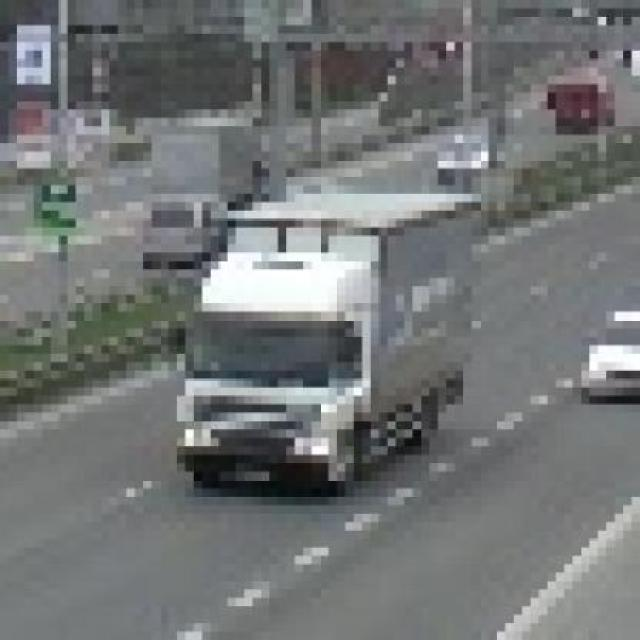truck: (161, 177, 473, 473)
